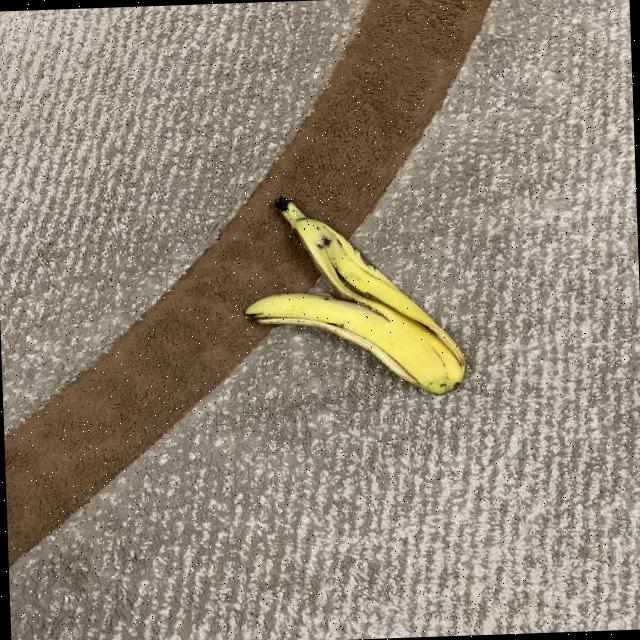banana-peel: (238, 187, 466, 402)
